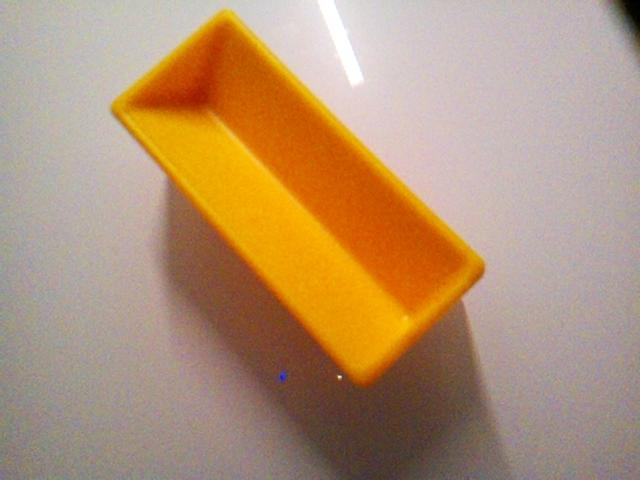yellow: (109, 8, 488, 389)
